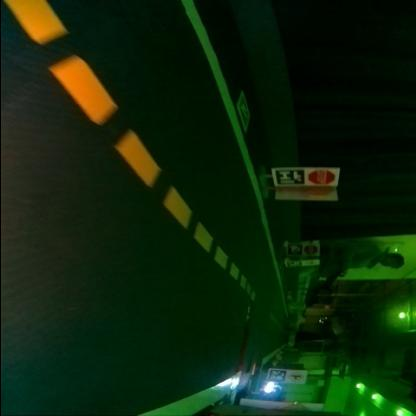Intersection sign: (290, 370, 304, 380)
QR code: (236, 90, 250, 132), (277, 168, 305, 184), (269, 369, 287, 381), (288, 244, 302, 254), (286, 260, 300, 266)
Stop sign: (306, 168, 336, 186), (304, 243, 318, 255)
